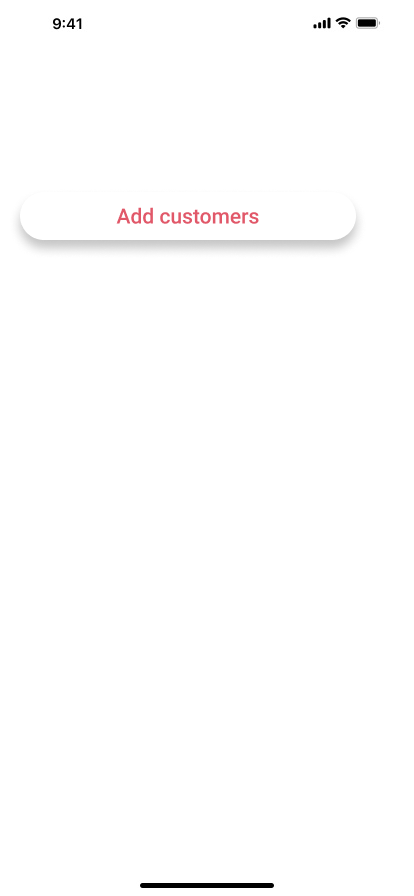Buttons: (8, 188, 368, 260)
Home Indicator: (0, 862, 414, 896)
Status Bar: (0, 0, 414, 44)
